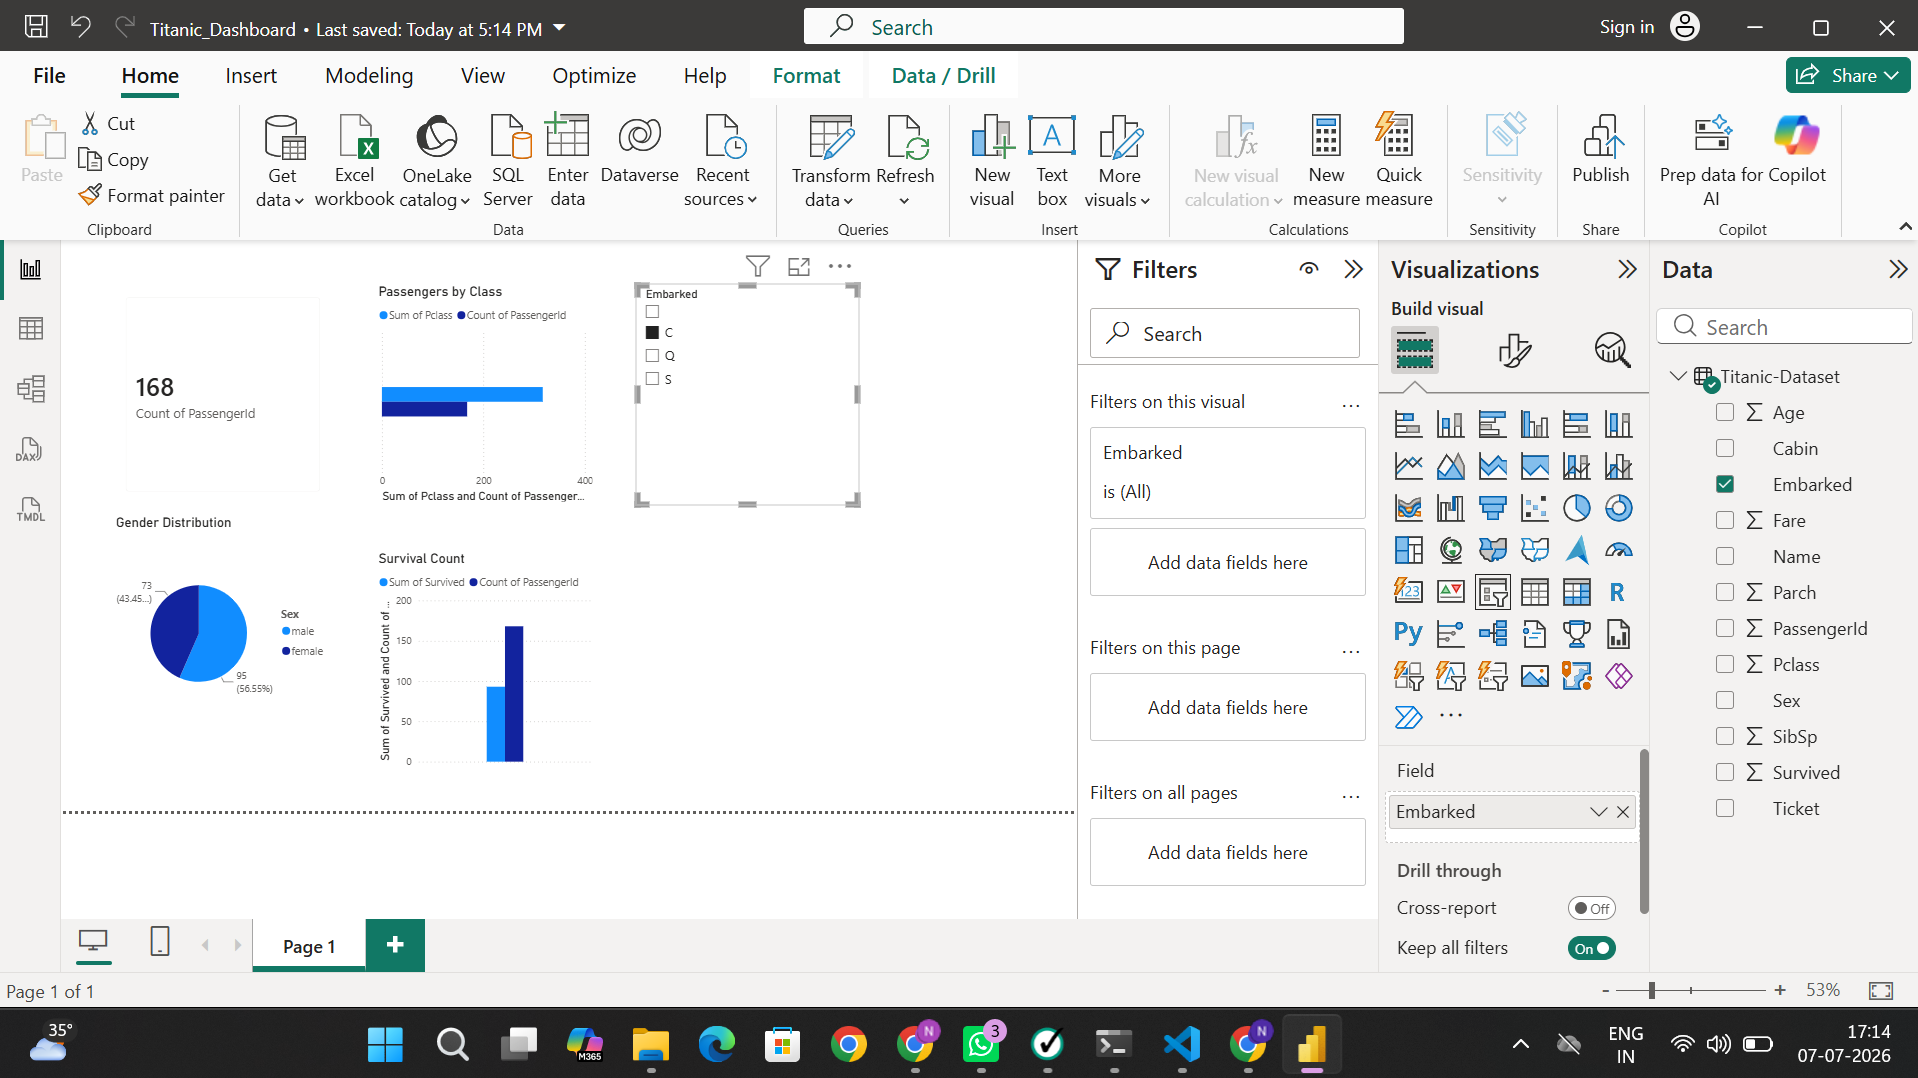

This screenshot's page, from the dashboard's own definition file:
{"tool":"powerbi","page":{"name":"Page 1","canvas":[1280,720],"ordinal":0},"visuals":[{"type":"cardVisual","fields":{"Data":["CountNonNull(Titanic-Dataset.PassengerId)"]},"box":[64.3,54.8,279.7,279.7],"z":0},{"type":"pieChart","title":"Gender Distribution","fields":{"Y":["CountNonNull(Titanic-Dataset.PassengerId)"],"Category":["Titanic-Dataset.Sex"]},"box":[64,345,280,280],"z":1000},{"type":"clusteredBarChart","title":"Passengers by Class","fields":{"Y":["Sum(Titanic-Dataset.Pclass)","CountNonNull(Titanic-Dataset.PassengerId)"]},"box":[395,54.8,279.7,279.7],"z":2000},{"type":"clusteredColumnChart","title":"Survival Count","fields":{"Y":["Sum(Titanic-Dataset.Survived)","CountNonNull(Titanic-Dataset.PassengerId)"]},"box":[395,391.2,279.7,279.7],"z":3000},{"type":"slicer","fields":{"Values":["Titanic-Dataset.Embarked"]},"box":[723.8,54.8,281.6,279.7],"z":3001}]}

Visuals, with their boxes on the page's 1280x720 design canvas (x1, y1, x2, y2). These are canvas units, not pixel positions in the 1918x1078 screenshot, which may show the page scaled, cropped or inside an application window:
cardVisual - CountNonNull(Titanic-Dataset.PassengerId): [64,55,344,334]
"Gender Distribution" pieChart: [64,345,344,625]
"Passengers by Class" clusteredBarChart: [395,55,675,334]
"Survival Count" clusteredColumnChart: [395,391,675,671]
slicer - Titanic-Dataset.Embarked: [724,55,1005,334]
